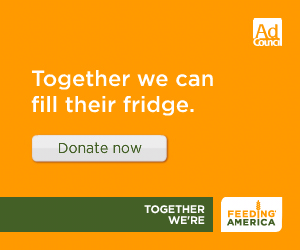fake_button: (28, 128, 173, 169)
